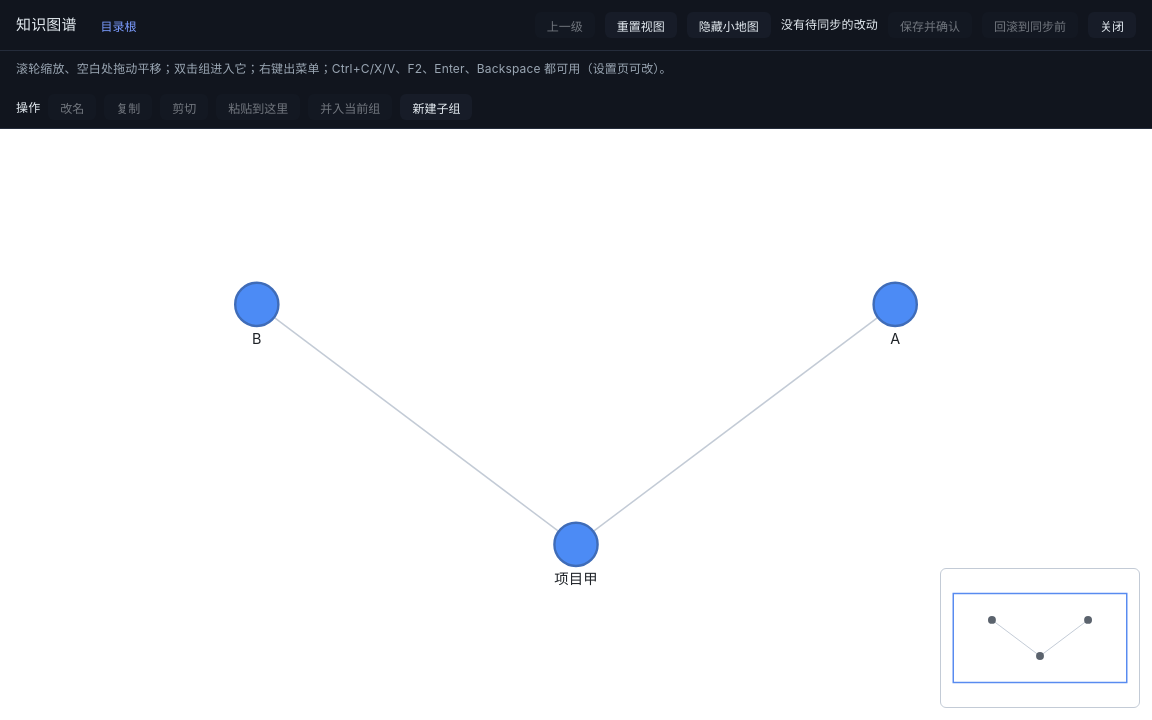
Test case: 知识图谱（s5：地铁导览图式小地图） › 可折叠，状态记在 sessionStorage
Check: the button named "小地图（点一下把主视图移过去）" is shown, box [940,568,1140,708]
What coordinates should you click on to do the following:
click the button "隐藏小地图"
I would click on:
 (729, 25)
Its box is [687,12,771,38].
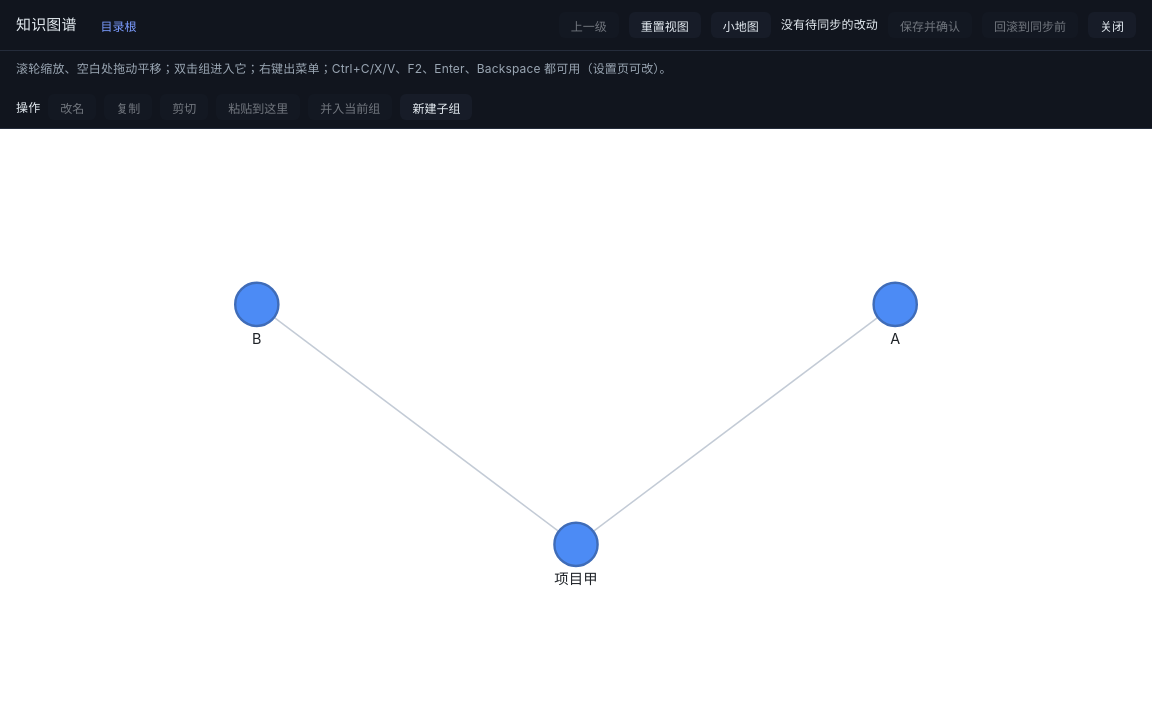
What coordinates should you click on to do the following:
click the button "小地图"
I would click on:
 (741, 25)
Its box is [711,12,771,38].
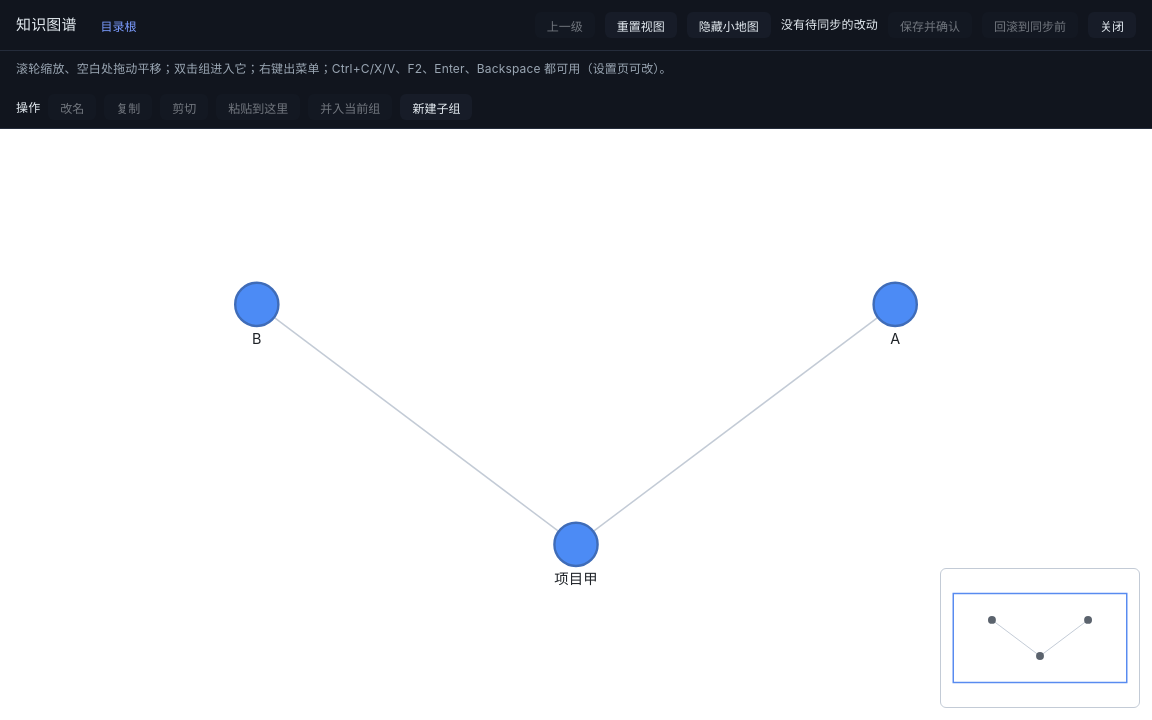
Check: the button named "小地图（点一下把主视图移过去）" is shown, box [940,568,1140,708]
